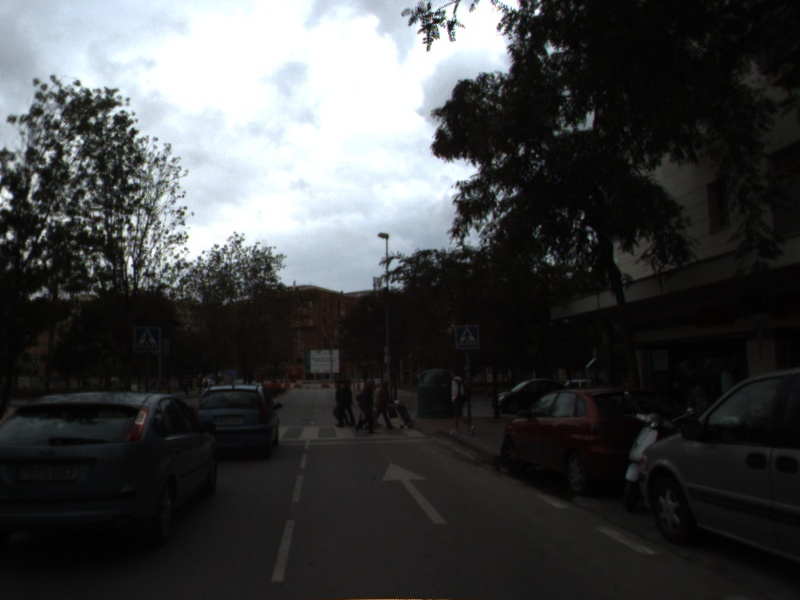STRAIGHT: (380, 460, 449, 526)
